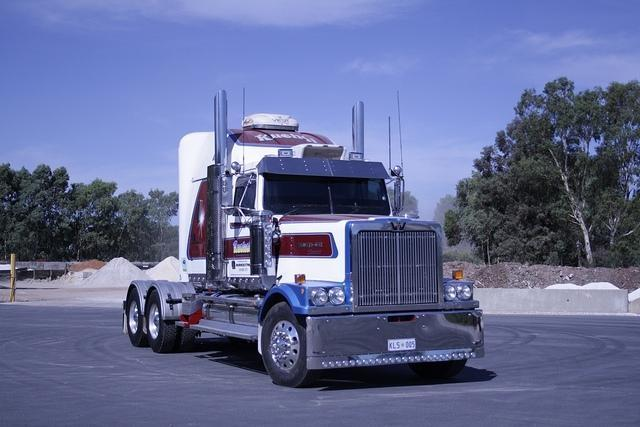truck: (122, 85, 484, 387)
